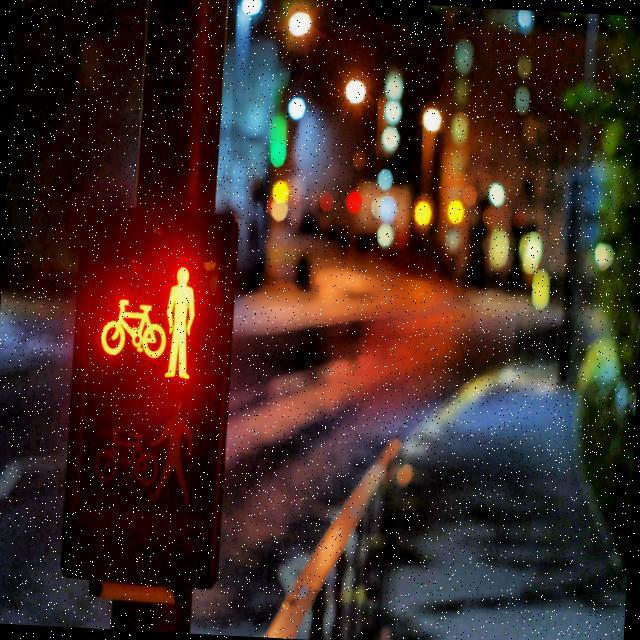red_light: (162, 264, 200, 384)
